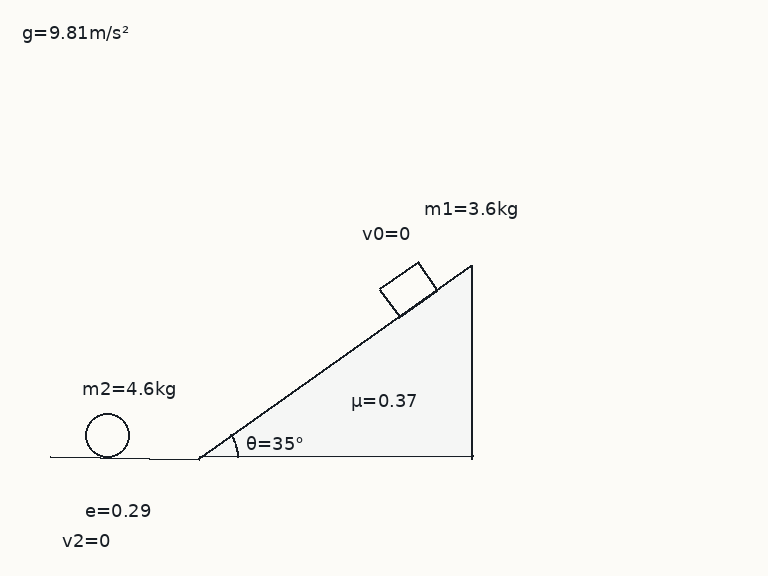ball: (83, 411, 131, 459)
block: (378, 260, 439, 318)
ramp: (196, 263, 474, 459)
